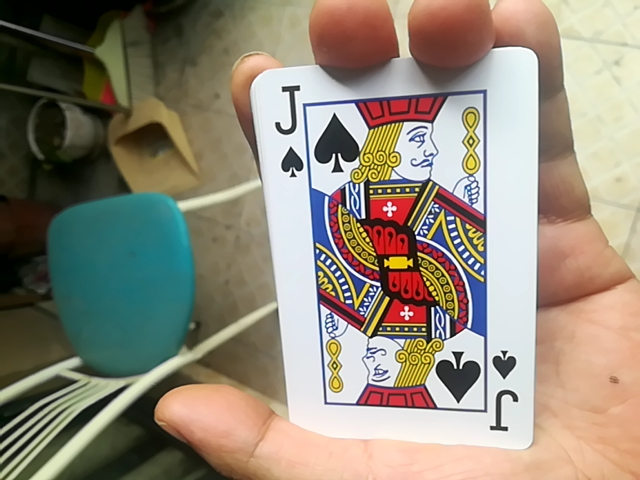ht j: (254, 52, 534, 454)
